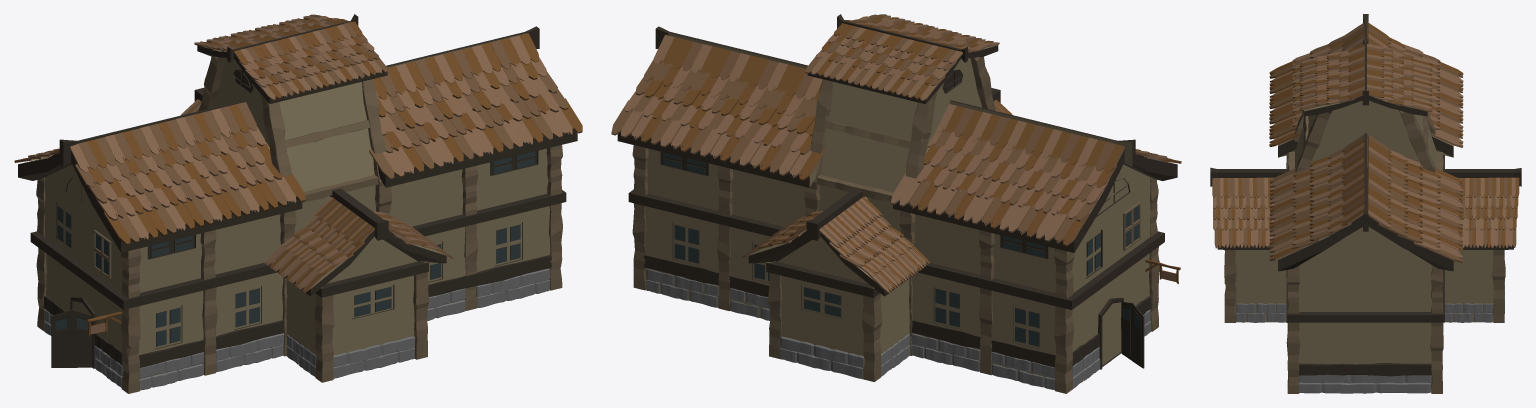
File: clown_house.fbx
3 views of the same model, side by side, from view 1: azimuth 30°, elevation 25°; view 2: azimuth 150°, elevation 25°; view 3: azimuth 270°, elevation 25° (orthographic). The views are drawn at different scales.
Parts seen in each view (by area): view 1: ระนาบ, ระนาบ.035, ระนาบ.023, ระนาบ.025, ระนาบ.031, ระนาบ.034, ระนาบ.022, ระนาบ.024, ระนาบ.033, ระนาบ.021, ระนาบ.032, ระนาบ.001 (+47 smaller); view 2: ระนาบ, ระนาบ.040, ระนาบ.026, ระนาบ.030, ระนาบ.036, ระนาบ.039, ระนาบ.028, ระนาบ.037, ระนาบ.029, ระนาบ.027, ระนาบ.038, ระนาบ.050 (+46 smaller); view 3: ระนาบ, ระนาบ.040, ระนาบ.035, ระนาบ.036, ระนาบ.030, ระนาบ.025, ระนาบ.031, ลูกบาศก์.077, ระนาบ.033, ระนาบ.037, ระนาบ.039, ลูกบาศก์.075 (+40 smaller).
Part boxes in pixels (x1,y1,x2,y2): ระนาบ: (18,14,577,376); ระนาบ.035: (369,98,582,179); ระนาบ.023: (70,102,256,172); ระนาบ.025: (103,173,305,245); ระนาบ.031: (373,33,538,99); ระนาบ.034: (383,89,567,153); ระนาบ.022: (88,141,271,203); ระนาบ.024: (96,160,281,220); ระนาบ.033: (379,71,557,135); ระนาบ.021: (75,126,265,187); ระนาบ.032: (378,57,546,117); ระนาบ.001: (51,297,96,368); ระนาบ: (617,14,1177,387); ระนาบ.040: (611,100,825,180); ระนาบ.026: (936,104,1124,173); ระนาบ.030: (890,173,1089,245); ระนาบ.036: (653,35,822,101); ระนาบ.039: (624,91,812,154); ระนาบ.028: (923,143,1107,204); ระนาบ.037: (644,59,816,120); ระนาบ.029: (917,163,1097,221); ระนาบ.027: (927,129,1116,187); ระนาบ.038: (635,76,815,136); ระนาบ.050: (805,56,937,101); ระนาบ: (1210,14,1521,383); ระนาบ.040: (1428,168,1463,262); ระนาบ.035: (1269,168,1304,261); ระนาบ.036: (1367,135,1391,227); ระนาบ.030: (1431,62,1463,147); ระนาบ.025: (1269,61,1300,146); ระนาบ.031: (1341,134,1364,225); ลูกบาศก์.077: (1299,363,1431,376); ระนาบ.033: (1309,156,1334,240); ระนาบ.037: (1378,150,1408,236); ระนาบ.039: (1413,168,1440,251); ลูกบาศก์.075: (1299,382,1431,393).
Size of the model in its own units: 8851 by 4855 by 5763.
